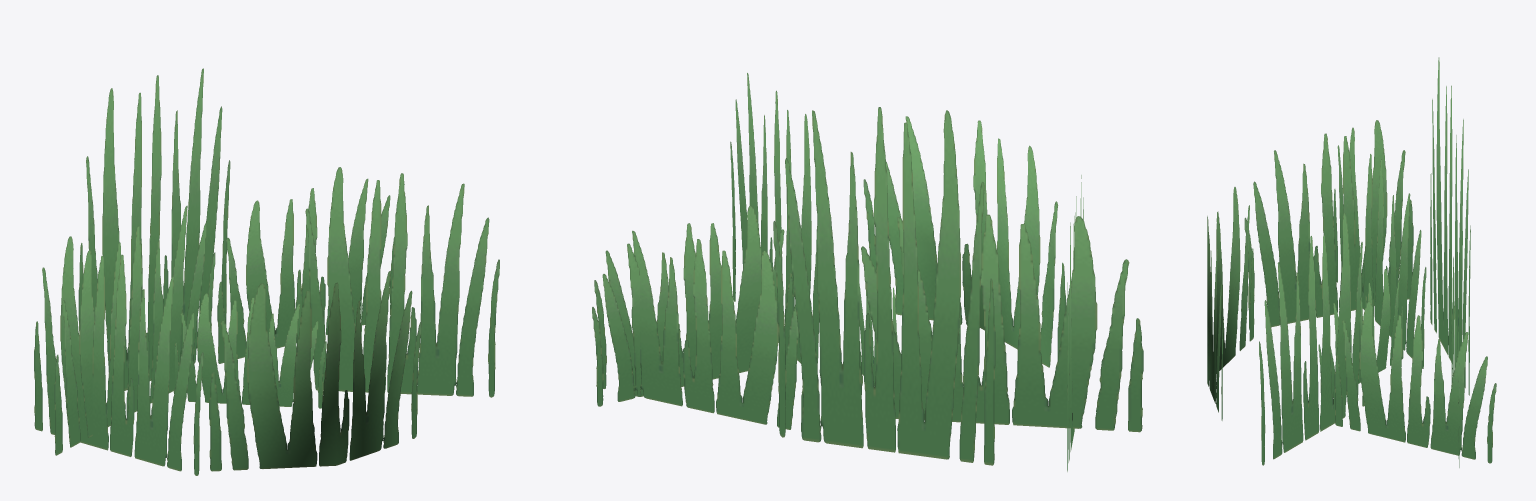
Rendered from SM_Env_GrassGreen3.fbx.
3 views of the same model, side by side, from view 1: azimuth 30°, elevation 25°; view 2: azimuth 150°, elevation 25°; view 3: azimuth 270°, elevation 25° (orthographic). The views are drawn at different scales.
Visible parts, largest first — view 1: SM_Env_GrassGreen3; view 2: SM_Env_GrassGreen3; view 3: SM_Env_GrassGreen3.
Part boxes in pixels (left/top/right/bottom): SM_Env_GrassGreen3: left=34, top=68, right=499, bottom=475; SM_Env_GrassGreen3: left=592, top=73, right=1143, bottom=471; SM_Env_GrassGreen3: left=1207, top=57, right=1496, bottom=467.
Bounding box in the file's own units: 78.74 × 52.73 × 50.05.
